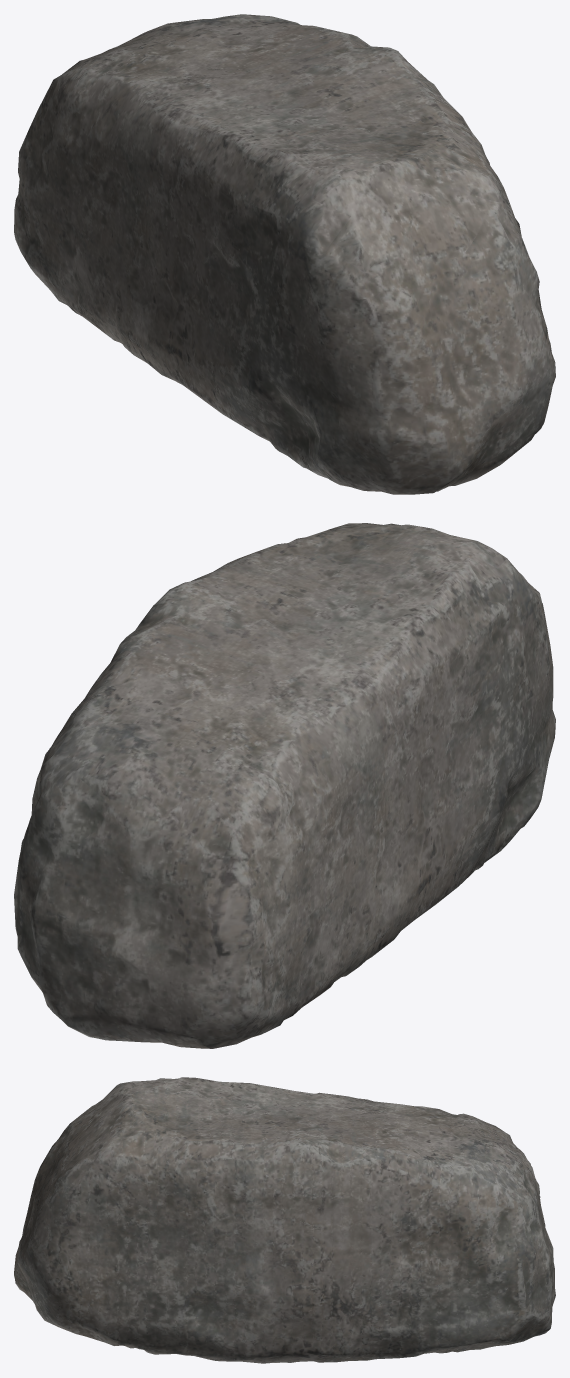
The model's file is SM_RP_Vol_01_02.fbx.
3 views of the same model, one above another, from view 1: azimuth 30°, elevation 25°; view 2: azimuth 150°, elevation 25°; view 3: azimuth 270°, elevation 25° (orthographic). The views are drawn at different scales.
Visible parts, largest first — view 1: SM_RP_Vol_01_02; view 2: SM_RP_Vol_01_02; view 3: SM_RP_Vol_01_02.
Boxes of the visible parts, x1,y1,x2,y2 form: SM_RP_Vol_01_02: [14, 14, 555, 494]; SM_RP_Vol_01_02: [14, 523, 555, 1048]; SM_RP_Vol_01_02: [14, 1077, 555, 1363].
Bounding box in the file's own units: 21.79 × 23.52 × 50.46.
1 material, 1 textured.
